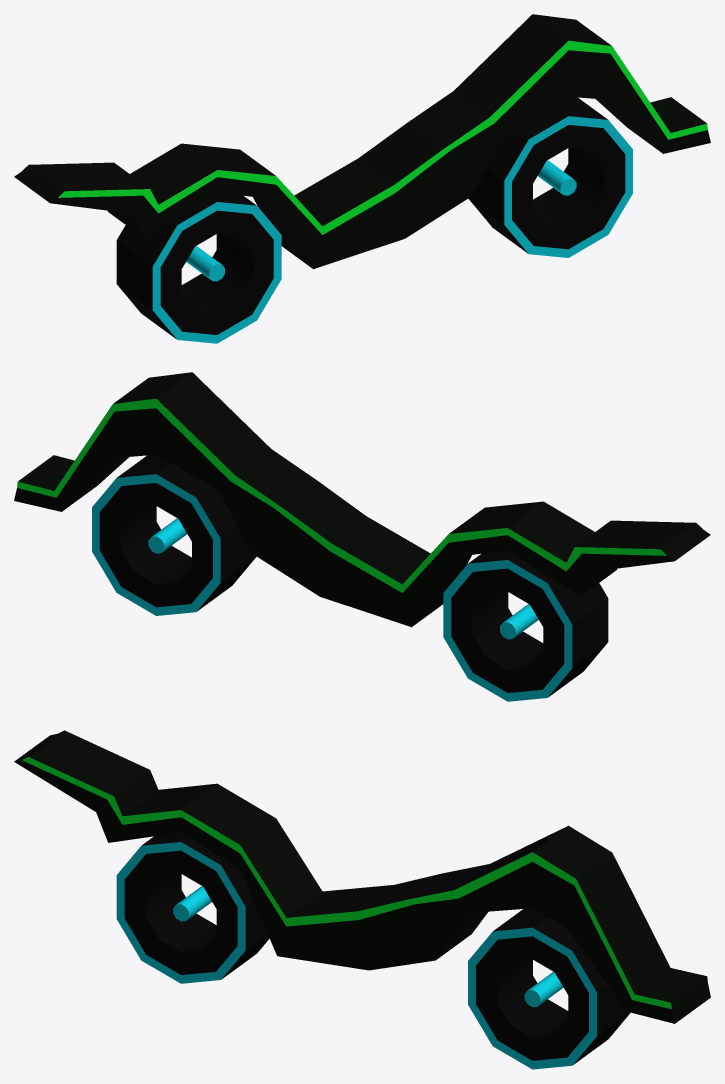
File: future_bike_rotation_correction.FBX
3 renders of one model, top to bottom at view 1: azimuth 30°, elevation 25°; view 2: azimuth 150°, elevation 25°; view 3: azimuth 330°, elevation 25°, orthographic.
Parts seen in each view (by area): view 1: bike_housing, bike_tire_1, bike_tire_002; view 2: bike_housing, bike_tire_1, bike_tire_002; view 3: bike_housing, bike_tire_1, bike_tire_002.
Boxes of the visible parts, <box> form: bike_housing: <box>14,14,710,269</box>; bike_tire_1: <box>468,96,632,257</box>; bike_tire_002: <box>116,192,281,343</box>; bike_housing: <box>14,372,710,627</box>; bike_tire_1: <box>92,454,256,615</box>; bike_tire_002: <box>443,550,608,701</box>; bike_housing: <box>14,730,710,1023</box>; bike_tire_1: <box>468,908,630,1069</box>; bike_tire_002: <box>116,832,269,983</box>.
Bounding box in the file's own units: 94.8 × 8.97 × 29.81.
